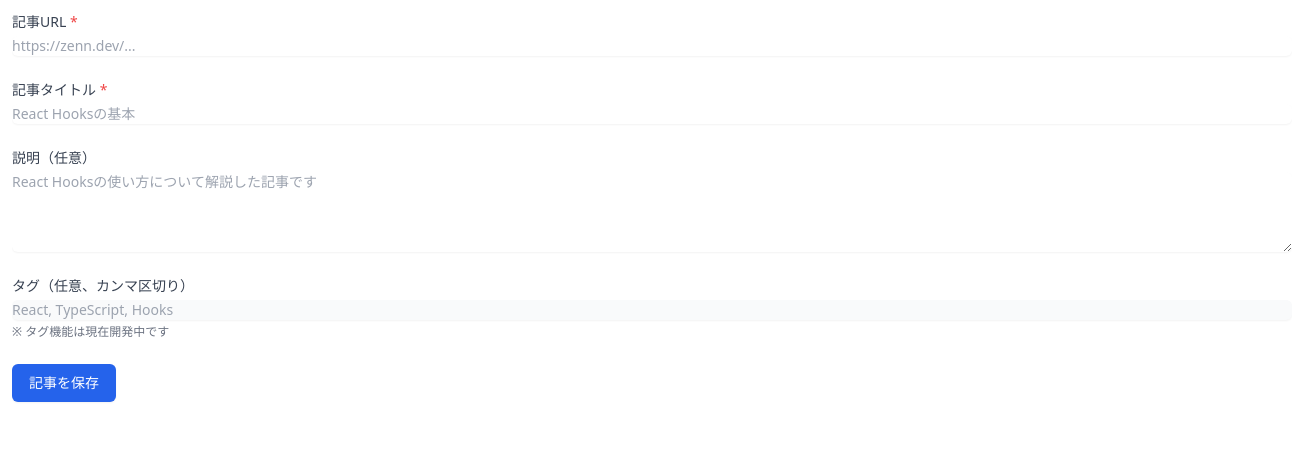
it: ArticleForm › プラットフォーム自動判定 › ZennのURLを入力すると自動判定結果が表示される
Type "https://zenn.dev/user/articles/example" into the field labelled "記事URL *" at coordinates (652, 46), box [12,36,1292,56]
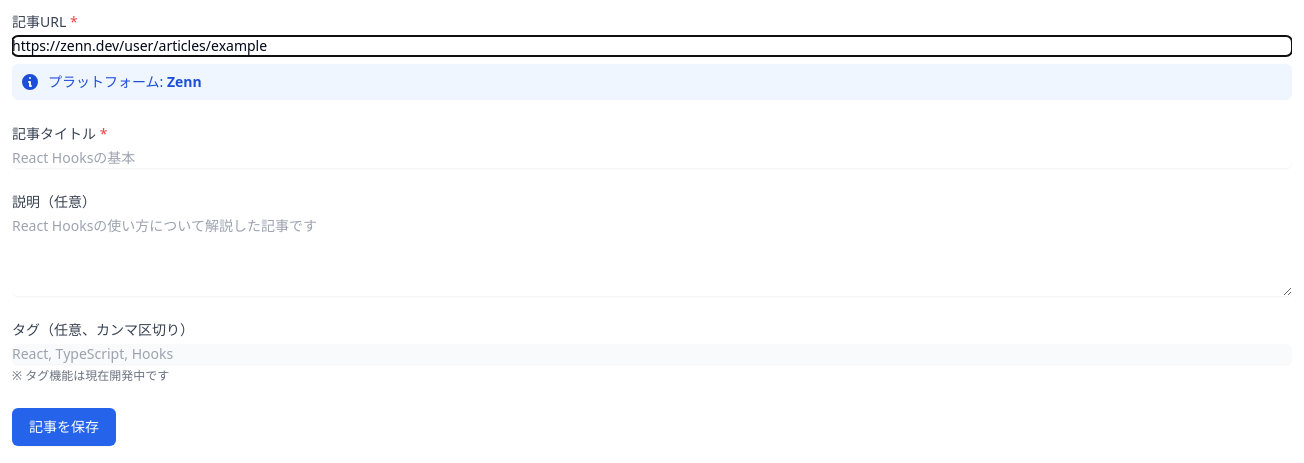
Expected: the text "プラットフォーム: Zenn" is shown, [48,72,202,92]
Expected: the text "Zenn" is shown, [167,72,202,91]
